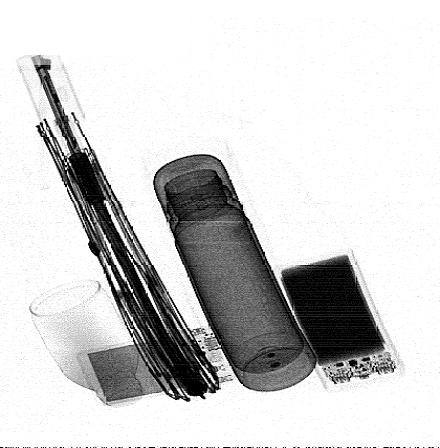Powerbank: (275, 248, 405, 388), (79, 325, 235, 406)
